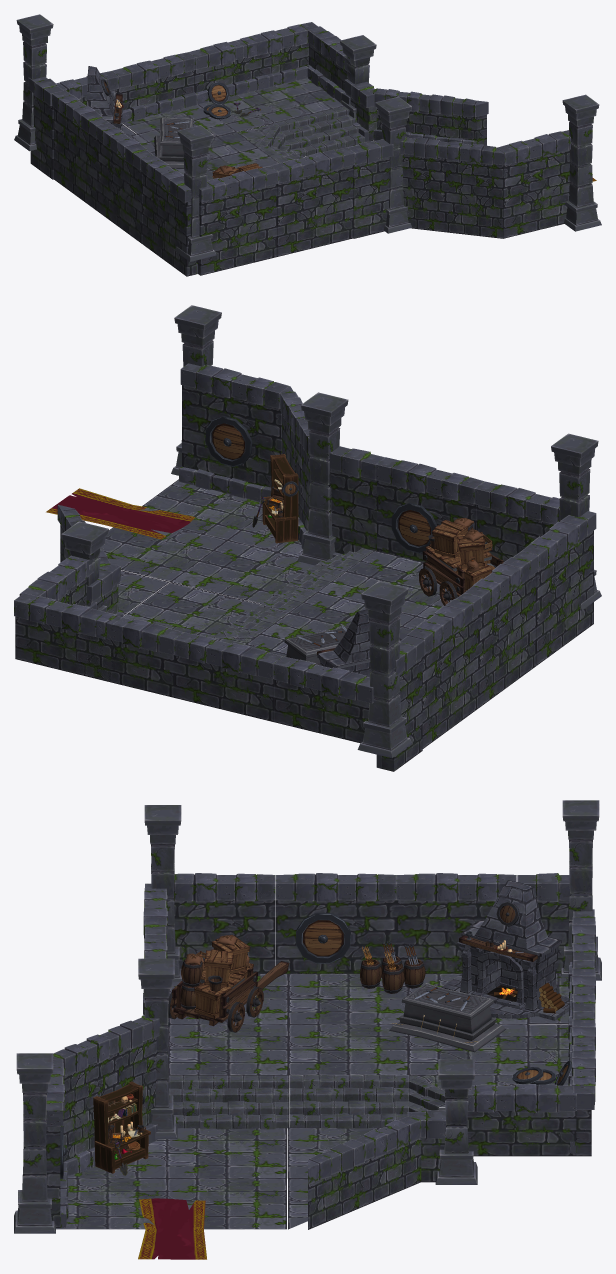
The model's file is Forge.gltf.
3 views of the same model, one above another, from view 1: azimuth 30°, elevation 25°; view 2: azimuth 150°, elevation 25°; view 3: azimuth 270°, elevation 25° (orthographic). The views are drawn at different scales.
Visible parts, largest first — view 1: P_MOD_Wall_01_E_straight_med (×6), P_MOD_WallCover_01_E_straight (1) (×6), P_MOD_Wall_01_E_angle_med_1, P_MOD_Column_01_large (×4), P_MOD_WallCover_01_E_straight (×5), P_MOD_Wall_01_E_straight_small (×4), P_MOD_Wall_01_E_straight_med_half_R (×2), P_MOD_Column_01_capital (×5), P_MOD_WallTrim_01_E_straight (×4), P_MOD_Stairs_01_E_straight_4, P_MOD_Floor_01_O_straight_med (12), P_MOD_Column_01_base (×4) (+18 smaller); view 2: P_MOD_Wall_01_E_straight_med (×6), P_MOD_Wall_01_E_straight_small (×4), P_MOD_WallCover_01_E_straight (1) (×6), P_MOD_WallCover_01_E_straight (×5), P_MOD_Column_01_large (×4), P_MOD_Column_01_capital (×5), P_MOD_Wall_01_E_straight_med_half_R (×2), P_MOD_Floor_01_O_straight_med (7), P_MOD_Floor_01_O_straight_med (1), P_MOD_Floor_01_O_straight_med (8), P_MOD_Floor_01_O_straight_med, P_MOD_Floor_01_O_straight_med (9) (+21 smaller); view 3: P_MOD_Wall_01_E_straight_med (×4), P_MOD_WallCover_01_E_straight (1) (×5), P_PROP_fireplace_dungeon, P_MOD_Column_01_large (×4), P_MOD_WallCover_01_E_straight (×5), P_MOD_Stairs_01_E_straight_4 (3), P_MOD_Stairs_01_E_straight_4 (2), P_MOD_Floor_01_O_straight_med (9), P_MOD_Floor_01_O_straight_med (10), P_MOD_Floor_01_O_straight_med (7), P_MOD_Wall_01_E_straight_small (×2), P_MOD_Column_01_capital (×5) (+30 smaller).
Boxes of the visible parts, x1,y1,x2,y2 form: P_MOD_Wall_01_E_straight_med (×6): (53,107,571,276); P_MOD_WallCover_01_E_straight (1) (×6): (52,90,571,202); P_MOD_Wall_01_E_angle_med_1: (400,154,503,238); P_MOD_Column_01_large (×4): (22,34,593,237); P_MOD_WallCover_01_E_straight (×5): (56,22,351,99); P_MOD_Wall_01_E_straight_small (×4): (117,43,347,110); P_MOD_Wall_01_E_straight_med_half_R (×2): (30,94,391,238); P_MOD_Column_01_capital (×5): (16,14,599,150); P_MOD_WallTrim_01_E_straight (×4): (121,64,350,122); P_MOD_Stairs_01_E_straight_4: (275,106,364,156); P_MOD_Floor_01_O_straight_med (12): (237,78,343,122); P_MOD_Column_01_base (×4): (14,119,601,261); P_MOD_Wall_01_E_straight_med (×6): (182,385,593,748); P_MOD_Wall_01_E_straight_small (×4): (15,616,369,743); P_MOD_WallCover_01_E_straight (1) (×6): (180,363,596,653); P_MOD_WallCover_01_E_straight (×5): (14,555,374,703); P_MOD_Column_01_large (×4): (181,330,591,726); P_MOD_Column_01_capital (×5): (61,305,598,614); P_MOD_Wall_01_E_straight_med_half_R (×2): (330,469,422,771); P_MOD_Floor_01_O_straight_med (7): (171,540,314,603); P_MOD_Floor_01_O_straight_med (1): (100,527,226,581); P_MOD_Floor_01_O_straight_med (8): (123,582,260,635); P_MOD_Floor_01_O_straight_med: (139,479,262,540); P_MOD_Floor_01_O_straight_med (9): (317,550,446,616); P_MOD_Wall_01_E_straight_med (×4): (46,900,494,1227); P_MOD_WallCover_01_E_straight (1) (×5): (46,873,516,1126); P_PROP_fireplace_dungeon: (441,880,569,1020); P_MOD_Column_01_large (×4): (22,830,593,1201); P_MOD_WallCover_01_E_straight (×5): (457,909,595,1112); P_MOD_Stairs_01_E_straight_4 (3): (168,1075,288,1129); P_MOD_Stairs_01_E_straight_4 (2): (289,1075,409,1128); P_MOD_Floor_01_O_straight_med (9): (168,1024,288,1075); P_MOD_Floor_01_O_straight_med (10): (288,1024,408,1074); P_MOD_Floor_01_O_straight_med (7): (166,1128,286,1178); P_MOD_Wall_01_E_straight_small (×2): (467,1110,591,1156); P_MOD_Column_01_capital (×5): (16,800,599,1089).
Bounding box in the file's own units: 21.56 × 6.94 × 19.54.
23 materials, 23 textured.
